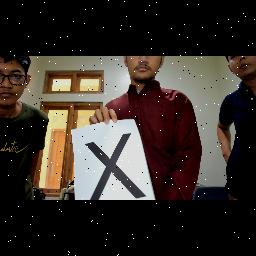x: (73, 130, 161, 200)
